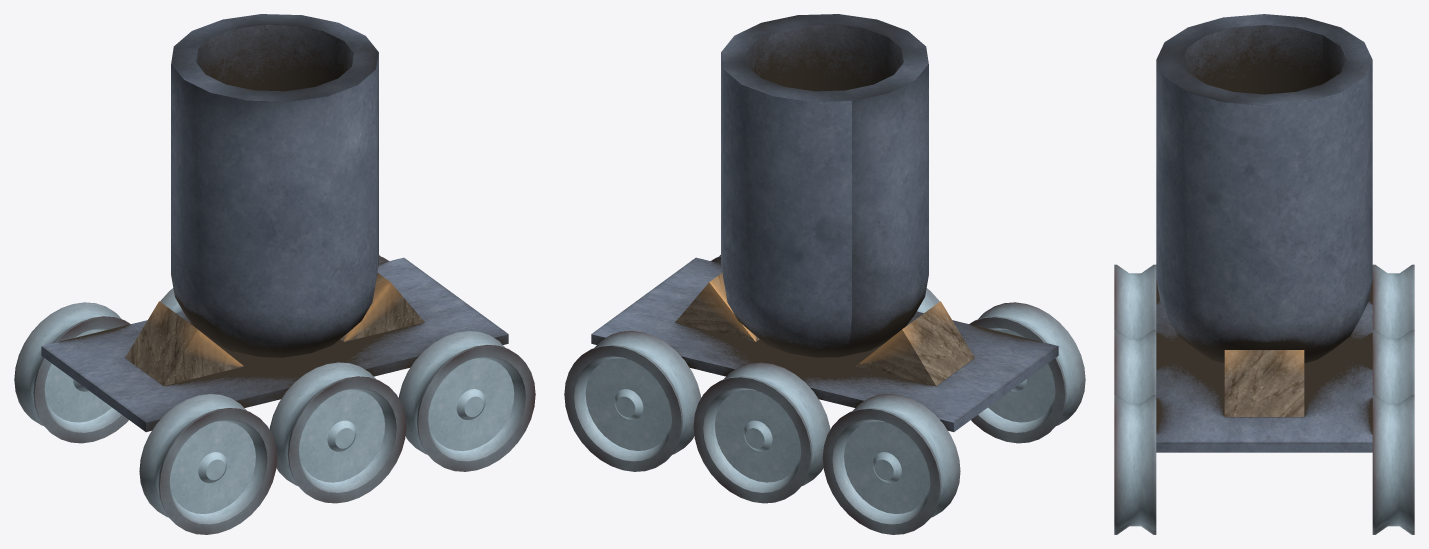
The model's file is Gun04.fbx.
3 views of the same model, side by side, from view 1: azimuth 30°, elevation 25°; view 2: azimuth 150°, elevation 25°; view 3: azimuth 270°, elevation 25° (orthographic). The views are drawn at different scales.
Parts seen in each view (by area): view 1: Cylinder.005, Plane.001, Cylinder.007, Cylinder.006, Cylinder.008, Cylinder.010, Cylinder.012; view 2: Cylinder.005, Plane.001, Cylinder.010, Cylinder.009, Cylinder.011, Cylinder.007, Cylinder.012; view 3: Cylinder.005, Plane.001, Cylinder.008, Cylinder.011, Cylinder.012, Cylinder.007, Cylinder.010, Cylinder.006, Cylinder.009.
Part boxes in pixels (bbox=[...]): Cylinder.005: bbox=[171, 14, 378, 357]; Plane.001: bbox=[41, 257, 508, 431]; Cylinder.007: bbox=[139, 394, 277, 534]; Cylinder.006: bbox=[269, 362, 406, 503]; Cylinder.008: bbox=[398, 331, 535, 471]; Cylinder.010: bbox=[14, 302, 130, 443]; Cylinder.012: bbox=[125, 272, 424, 385]; Cylinder.005: bbox=[721, 14, 928, 357]; Plane.001: bbox=[591, 257, 1058, 431]; Cylinder.010: bbox=[822, 394, 960, 534]; Cylinder.009: bbox=[693, 362, 830, 503]; Cylinder.011: bbox=[564, 331, 701, 471]; Cylinder.007: bbox=[969, 302, 1085, 443]; Cylinder.012: bbox=[675, 272, 974, 385]; Cylinder.005: bbox=[1156, 14, 1372, 363]; Plane.001: bbox=[1156, 280, 1372, 452]; Cylinder.008: bbox=[1114, 395, 1156, 534]; Cylinder.011: bbox=[1372, 395, 1414, 534]; Cylinder.012: bbox=[1224, 350, 1304, 416]; Cylinder.007: bbox=[1114, 264, 1156, 338]; Cylinder.010: bbox=[1372, 264, 1414, 338]; Cylinder.006: bbox=[1114, 330, 1156, 403]; Cylinder.009: bbox=[1372, 330, 1414, 403].
Bounding box in the file's own units: 414 × 412 × 278.
1 material, 1 textured.
